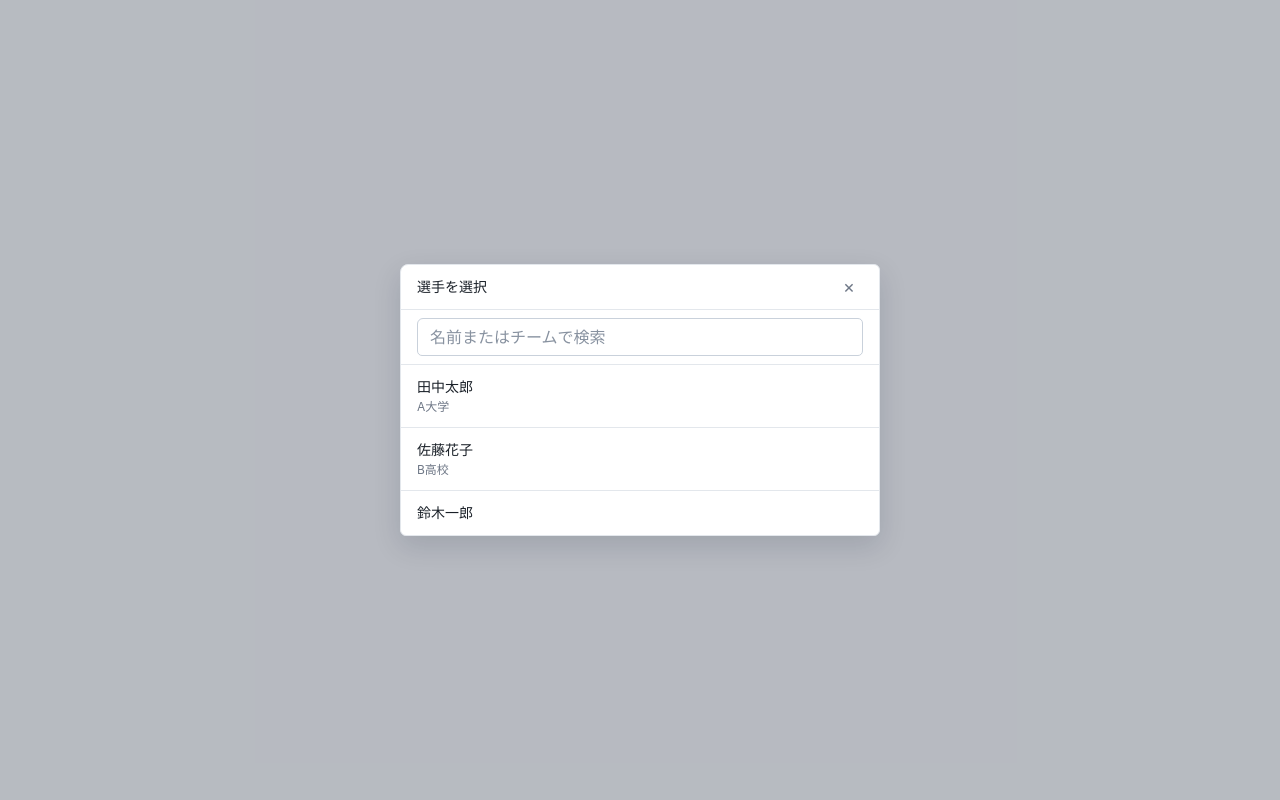
Test: PlayerSelectorSheet › 該当 0 件のとき empty メッセージを出す
Type "nomatch" into the search field. click: coordinates (640, 337)
box: [417,318,863,356]
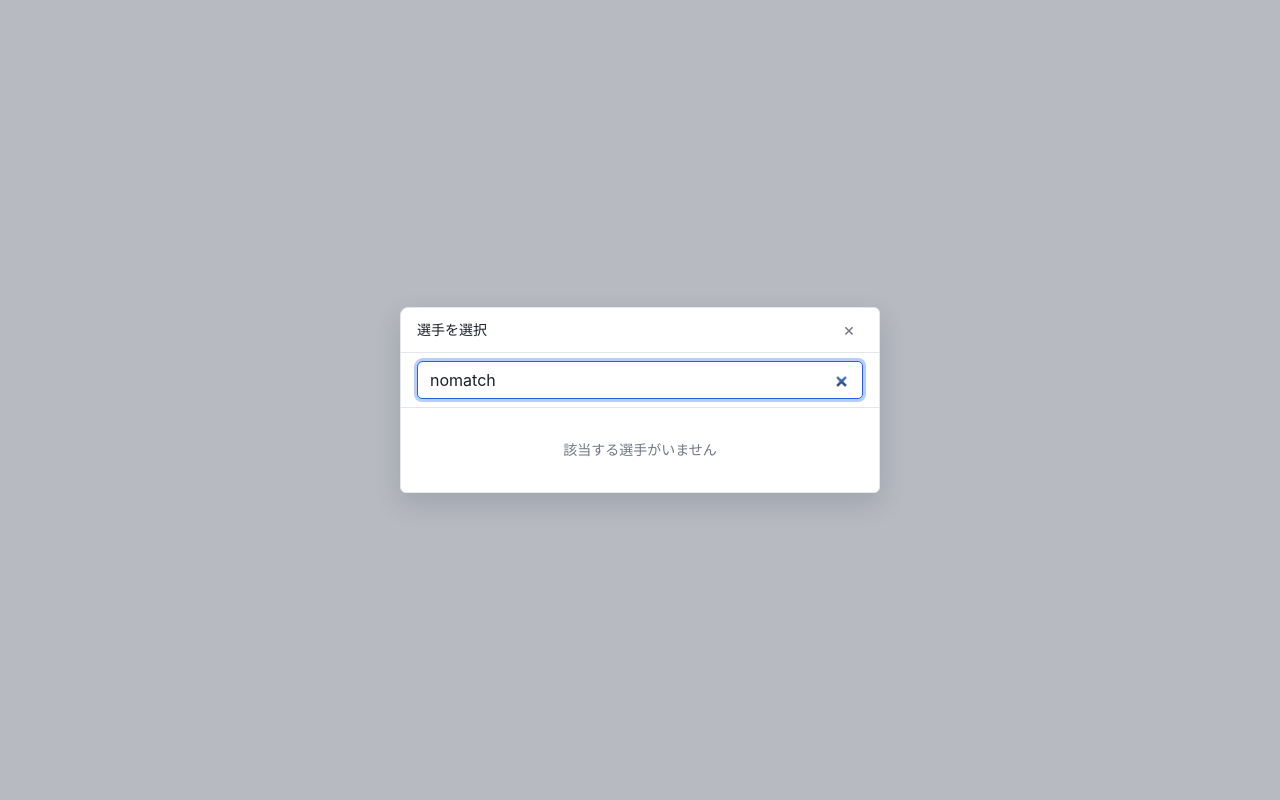
Expected: the text "該当する選手がいません" is shown, [563,441,717,458]
